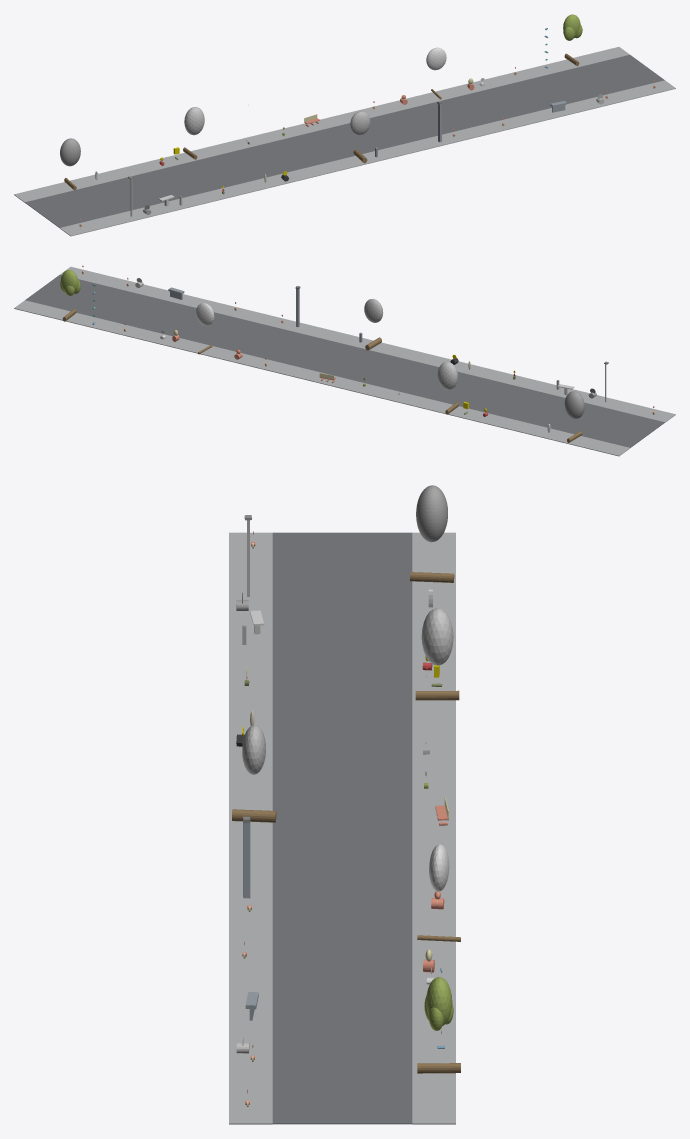
3 renders of one model, top to bottom at view 1: azimuth 30°, elevation 25°; view 2: azimuth 150°, elevation 25°; view 3: azimuth 270°, elevation 25°, orthographic. The views are drawn at different scales.
Visible parts, largest first — view 1: road_slab, sidewalk_left, sidewalk_right, inst_0012, inst_0013, inst_0016, inst_0014, inst_0015; view 2: road_slab, sidewalk_right, sidewalk_left, inst_0013, inst_0012, inst_0016, inst_0014, inst_0015; view 3: road_slab, sidewalk_left, sidewalk_right, inst_0013, inst_0012, inst_0016, inst_0014, inst_0015.
Part boxes in pixels (x1,y1,x2,y2): road_slab: [25, 55, 664, 227]; sidewalk_left: [60, 80, 675, 236]; sidewalk_right: [14, 47, 629, 202]; inst_0012: [60, 138, 80, 190]; inst_0013: [183, 107, 204, 159]; inst_0016: [563, 14, 582, 66]; inst_0014: [350, 111, 370, 163]; inst_0015: [426, 47, 446, 99]; road_slab: [25, 274, 664, 447]; sidewalk_right: [14, 300, 629, 456]; sidewalk_left: [60, 266, 675, 422]; inst_0013: [437, 361, 458, 414]; inst_0012: [564, 391, 584, 442]; inst_0016: [60, 270, 80, 321]; inst_0014: [364, 299, 383, 350]; inst_0015: [196, 303, 214, 354]; road_slab: [272, 532, 412, 1124]; sidewalk_left: [229, 532, 272, 1124]; sidewalk_right: [412, 532, 455, 1124]; inst_0013: [415, 608, 459, 700]; inst_0012: [410, 485, 454, 582]; inst_0016: [417, 977, 460, 1073]; inst_0014: [232, 725, 276, 822]; inst_0015: [417, 844, 460, 941].
Size of the model in its own units: 80 by 6.08 by 13.3.
